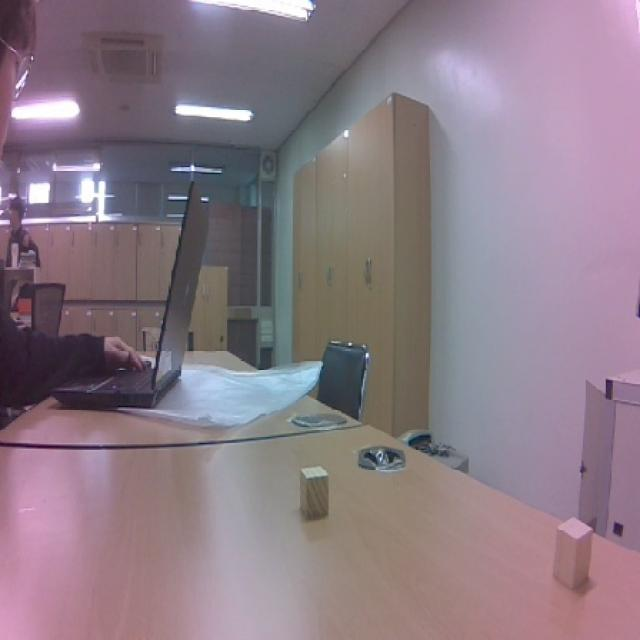obstacle: (548, 508, 608, 593), (292, 459, 336, 524)
